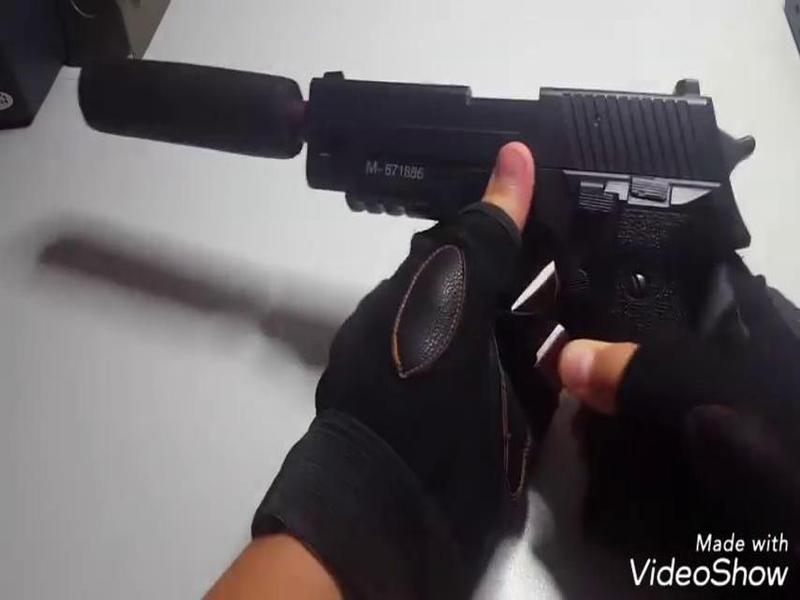Pistola: (310, 59, 726, 555)
